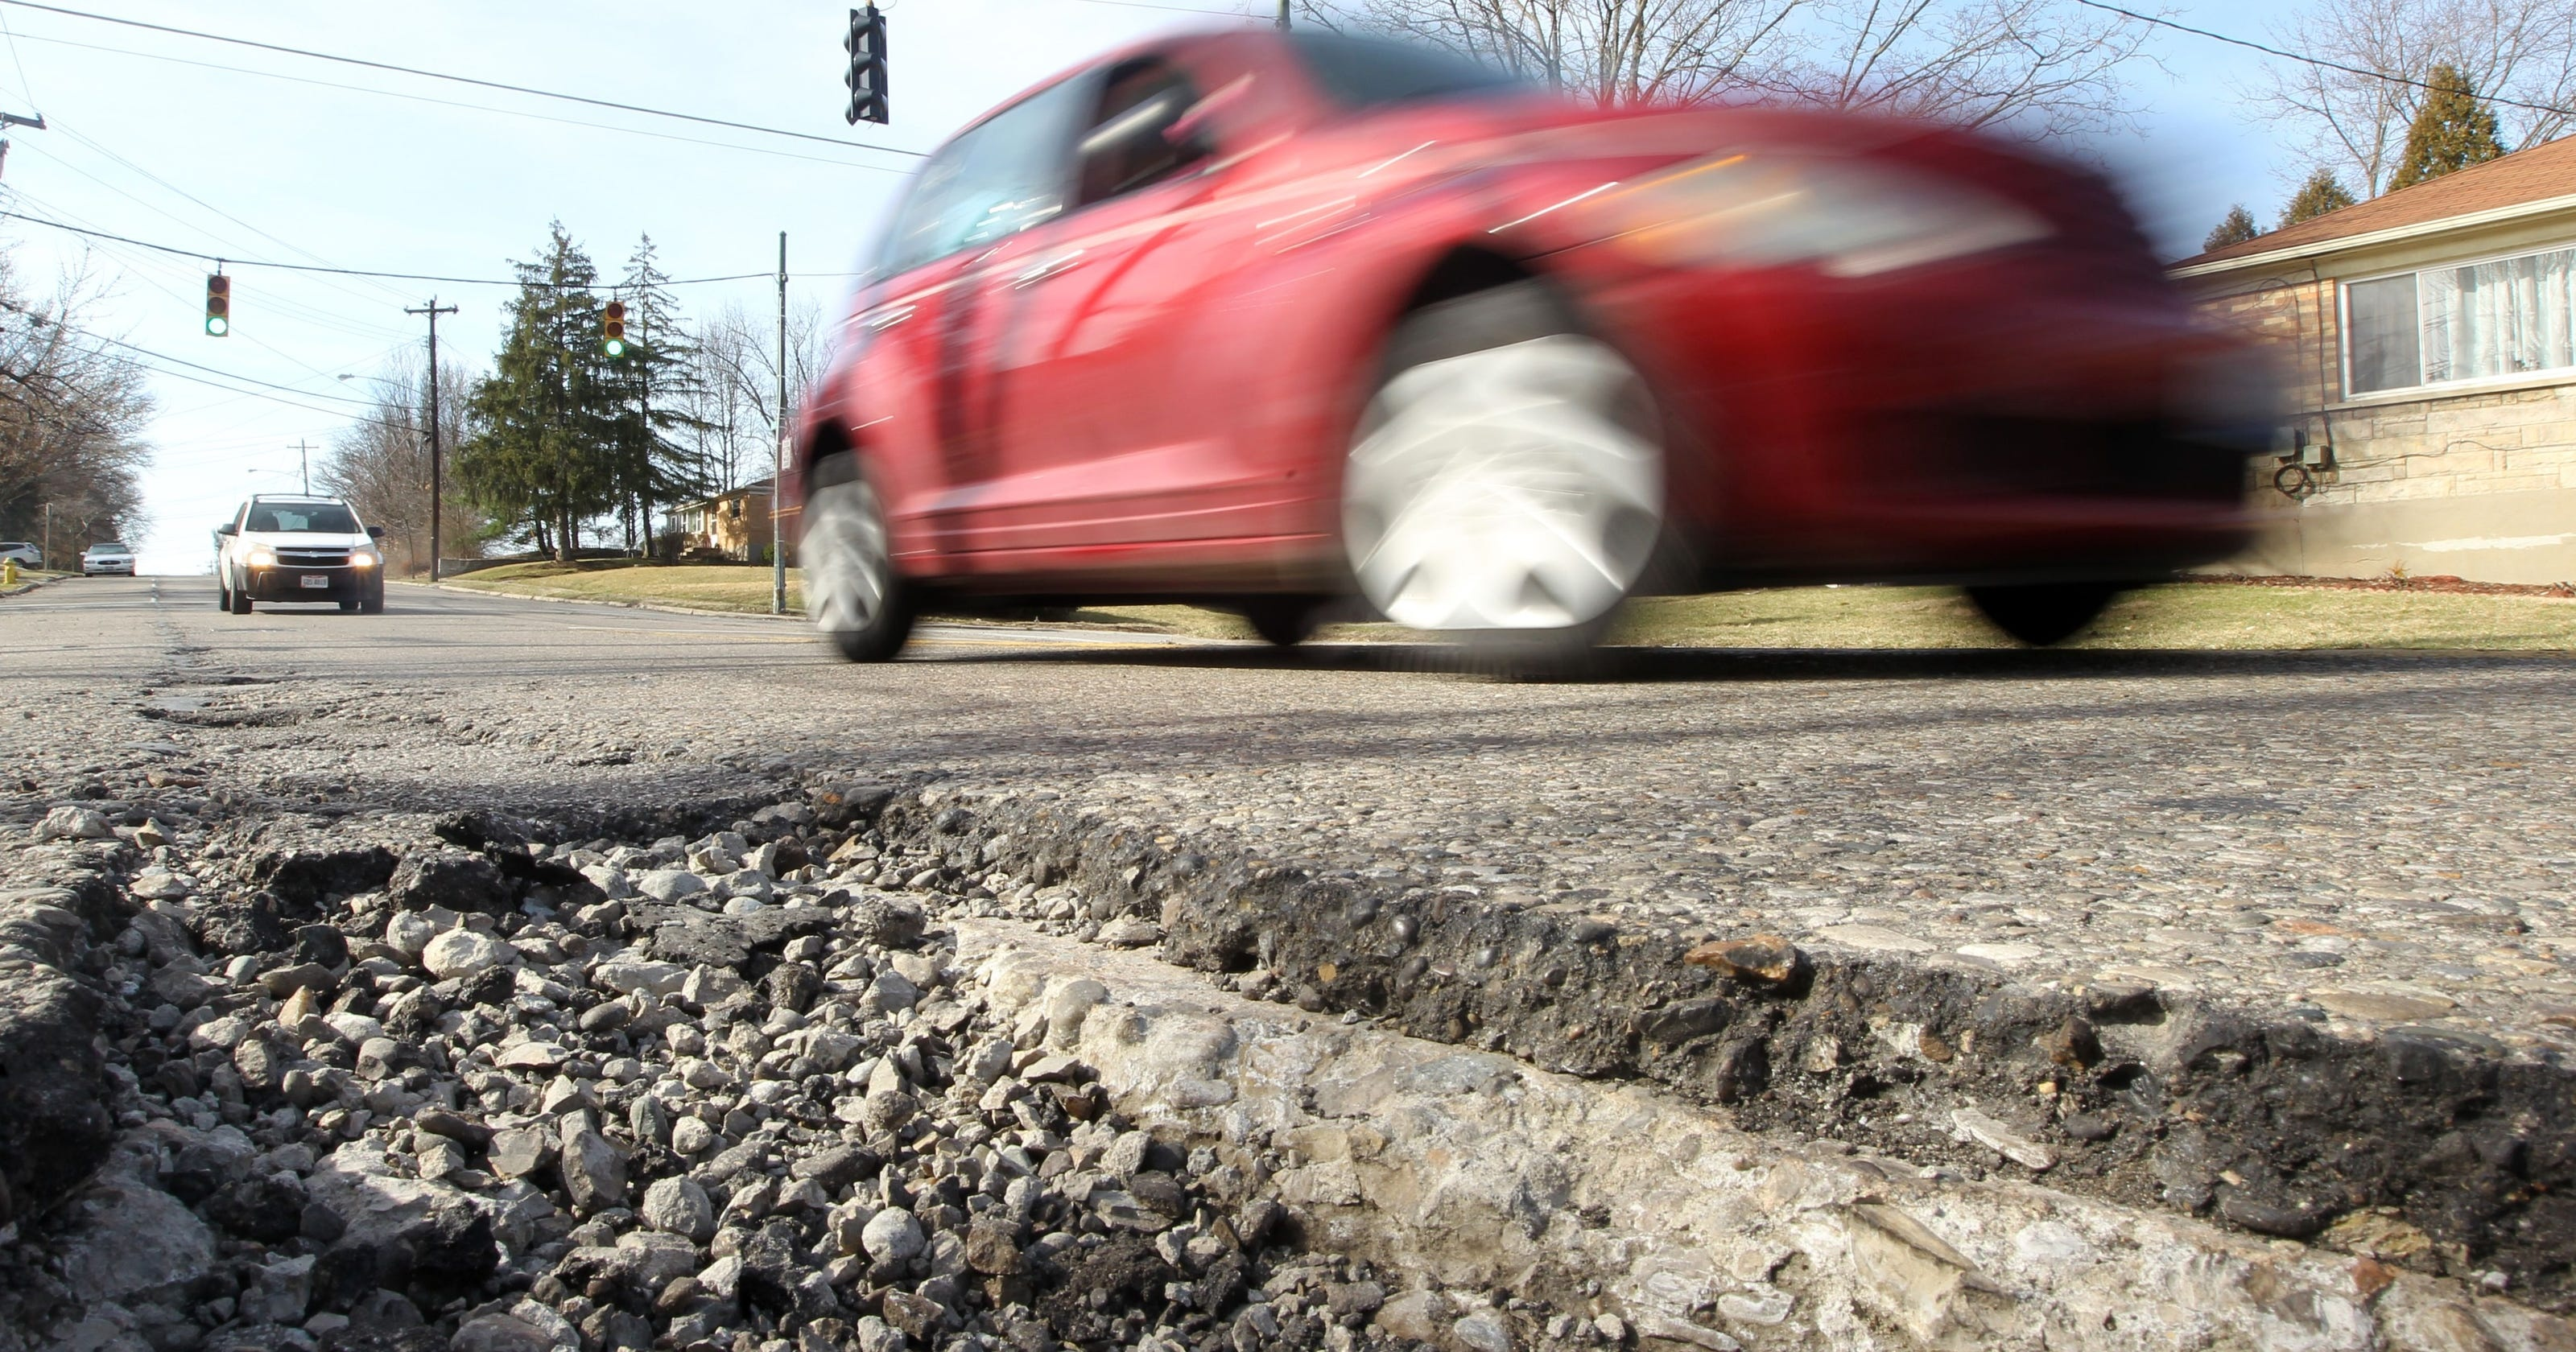pothole: (83, 729, 2314, 1275)
